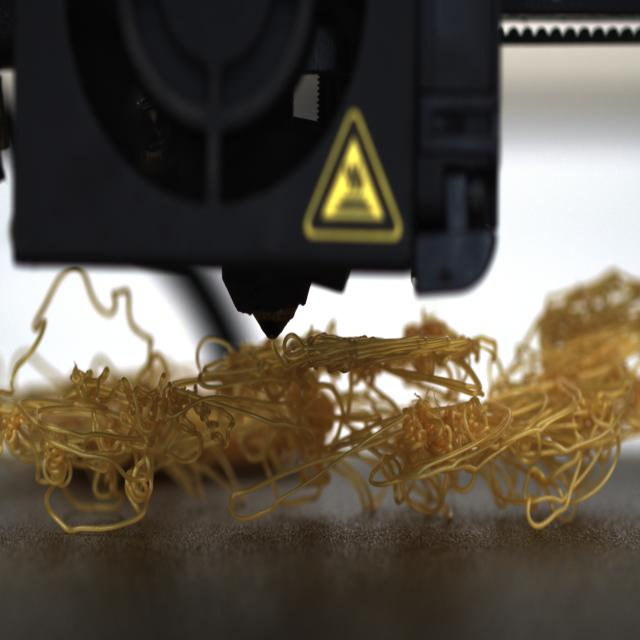Curling_Spagetti: (28, 295, 628, 529)
